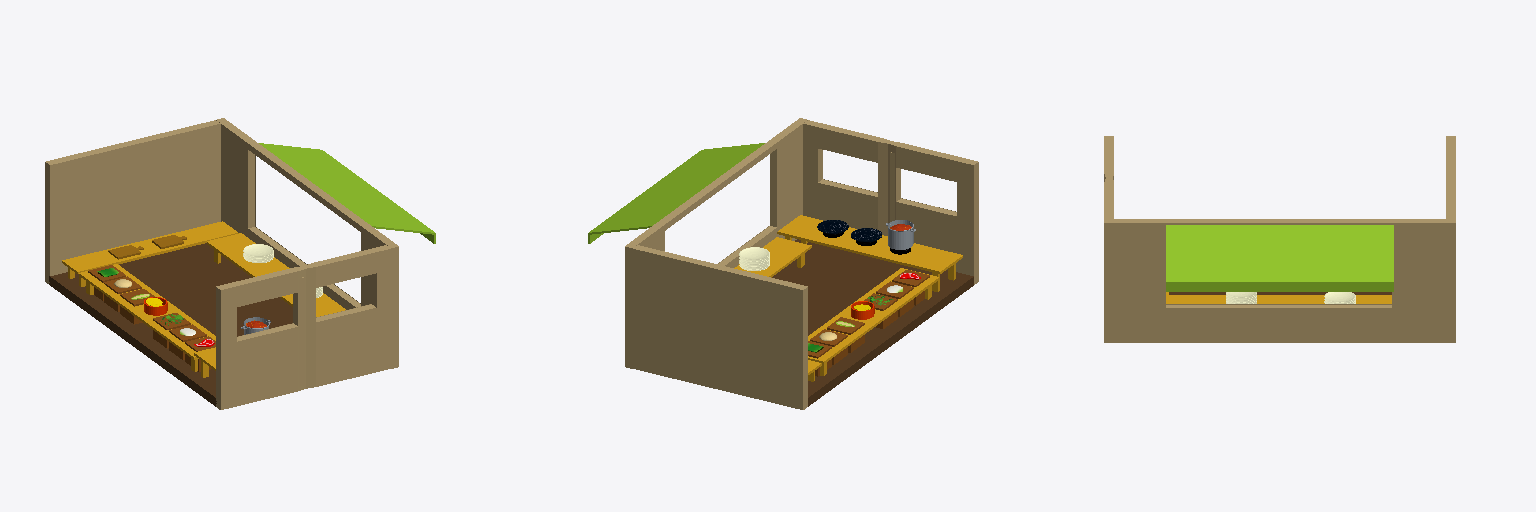
3 renders of one model, left to right at view 1: azimuth 30°, elevation 25°; view 2: azimuth 150°, elevation 25°; view 3: azimuth 270°, elevation 25°, orthographic.
Parts seen in each view (by area): view 1: Cube.017, Cube.015, Cube.018, Cube.003, Cube.001, Cube.006; view 2: Cube.017, Cube.015, Cube.018, Cube.002, Cube.006, Cube.001, Cylinder.003; view 3: Cube.017, Cube.018, Cube.001.
Boxes of the visible parts, x1=… form: Cube.017: x1=45, y1=118, x2=398, y2=409; Cube.015: x1=49, y1=243, x2=292, y2=406; Cube.018: x1=259, y1=143, x2=435, y2=243; Cube.003: x1=62, y1=221, x2=238, y2=286; Cube.001: x1=207, y1=233, x2=345, y2=316; Cube.006: x1=79, y1=264, x2=215, y2=371; Cube.017: x1=625, y1=118, x2=978, y2=409; Cube.015: x1=772, y1=239, x2=973, y2=406; Cube.018: x1=588, y1=143, x2=764, y2=243; Cube.002: x1=777, y1=215, x2=962, y2=291; Cube.006: x1=808, y1=268, x2=939, y2=375; Cube.001: x1=734, y1=237, x2=811, y2=277; Cylinder.003: x1=886, y1=220, x2=915, y2=249; Cube.017: x1=1104, y1=136, x2=1455, y2=342; Cube.018: x1=1166, y1=225, x2=1393, y2=291; Cube.001: x1=1169, y1=295, x2=1391, y2=303.
Bounding box in the file's own units: 28.17 × 13.2 × 34.8.
Materials: 21 (18 with a texture image).